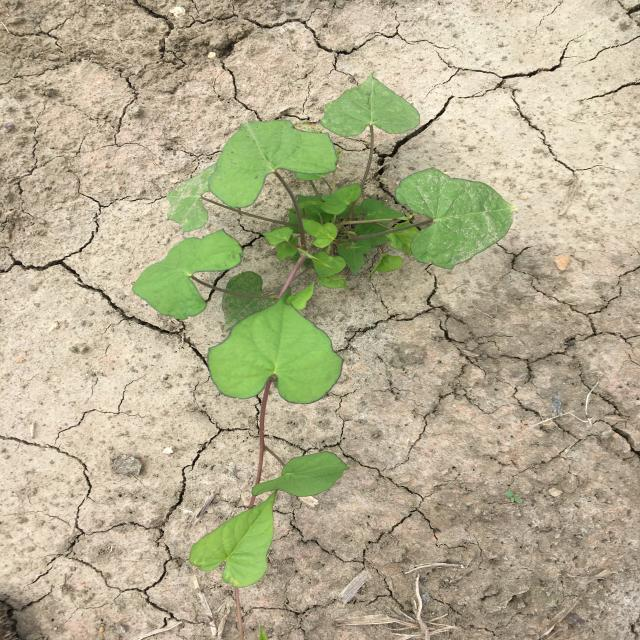MorningGlory: (132, 72, 520, 588)
